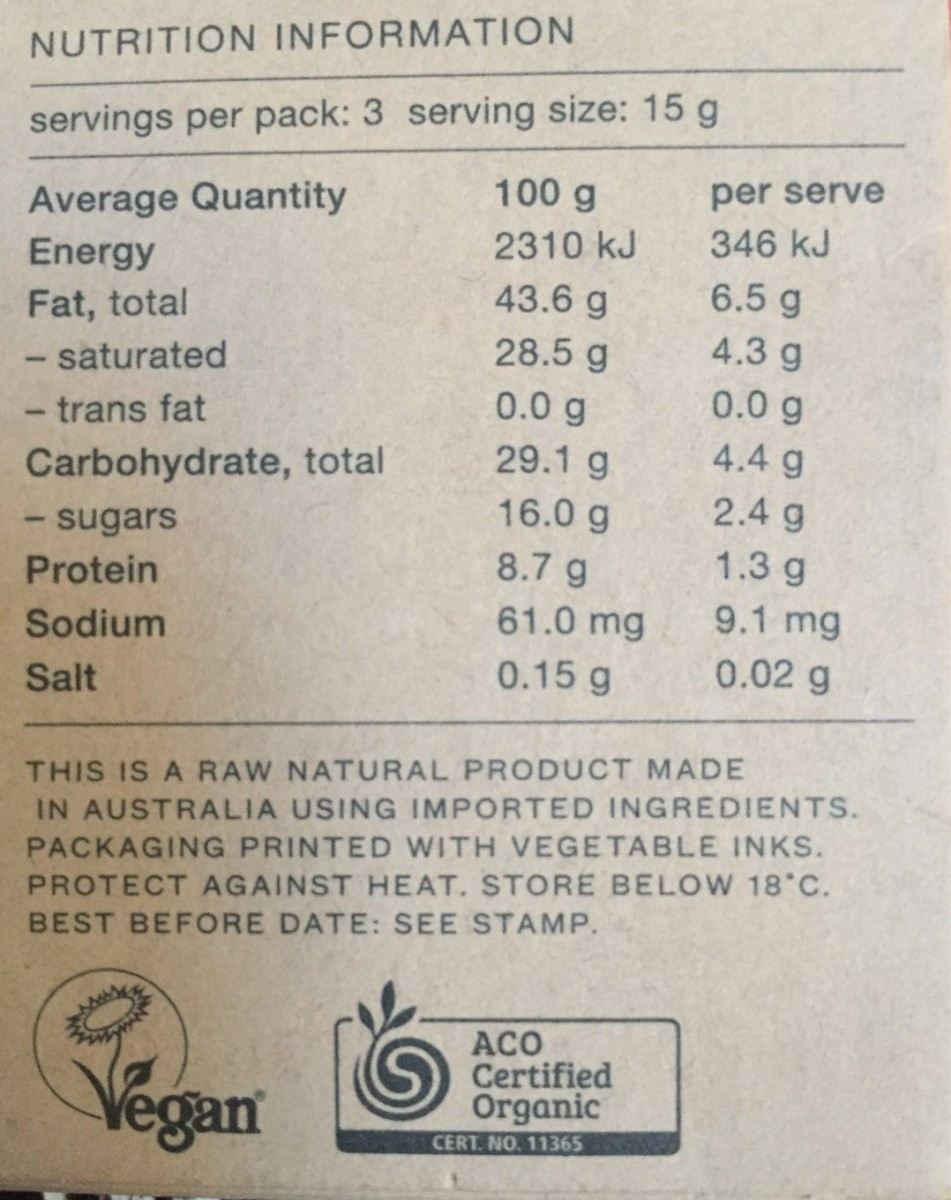column: (19, 181, 390, 710), (705, 174, 888, 701), (485, 177, 650, 701)
table: (13, 3, 942, 729)
